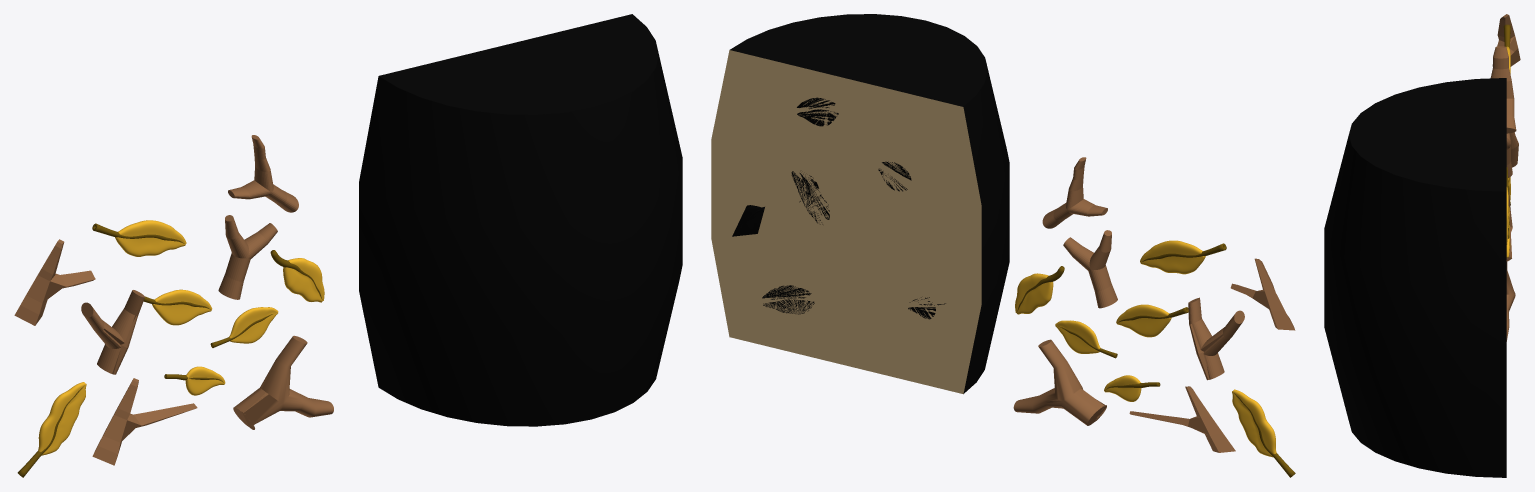
File: daun_tipe1.fbx
3 views of the same model, side by side, from view 1: azimuth 30°, elevation 25°; view 2: azimuth 150°, elevation 25°; view 3: azimuth 270°, elevation 25° (orthographic). The views are drawn at different scales.
Parts seen in each view (by area): view 1: Cylinder.003, Wye Joint.005, Icosphere.027, Tee Joint.002, Icosphere.028, Wye Joint.004, NurbsPath.013, NurbsPath.011, Wye Joint.003, NurbsPath.016, NurbsPath.015, NurbsPath.009 (+1 smaller); view 2: Cylinder.003, Wye Joint.005, Tee Joint.002, Wye Joint.004, NurbsPath.013, NurbsPath.011, Icosphere.027, Wye Joint.003, NurbsPath.015, NurbsPath.016, Icosphere.028, NurbsPath.009 (+1 smaller); view 3: Cylinder.003, Wye Joint.003, Icosphere.028, Wye Joint.005, Tee Joint.002.
Boxes of the visible parts, box(x1,y1,x2,y2) form: Cylinder.003: box(359, 14, 682, 426); Wye Joint.005: box(233, 335, 333, 429); Icosphere.027: box(92, 378, 197, 465); Tee Joint.002: box(81, 290, 144, 374); Icosphere.028: box(14, 239, 95, 325); Wye Joint.004: box(218, 215, 277, 299); NurbsPath.013: box(17, 382, 86, 477); NurbsPath.011: box(92, 220, 186, 256); Wye Joint.003: box(228, 135, 298, 212); NurbsPath.016: box(270, 250, 324, 302); NurbsPath.015: box(143, 289, 212, 325); NurbsPath.009: box(210, 307, 278, 347); Cylinder.003: box(711, 14, 1009, 394); Wye Joint.005: box(1013, 339, 1106, 425); Tee Joint.002: box(1188, 297, 1244, 380); Wye Joint.004: box(1063, 230, 1117, 308); NurbsPath.013: box(1232, 389, 1295, 477); NurbsPath.011: box(1140, 240, 1226, 274); Icosphere.027: box(1129, 386, 1235, 452); Wye Joint.003: box(1042, 157, 1107, 228); NurbsPath.015: box(1116, 304, 1188, 337); NurbsPath.016: box(1015, 266, 1064, 314); Icosphere.028: box(1230, 258, 1295, 330); NurbsPath.009: box(1055, 320, 1117, 358); Cylinder.003: box(1324, 78, 1506, 477); Wye Joint.003: box(1490, 46, 1516, 133); Icosphere.028: box(1492, 14, 1520, 66); Wye Joint.005: box(1506, 260, 1515, 341); Tee Joint.002: box(1509, 132, 1518, 167).
Size of the model in its own units: 194 by 93.28 by 56.45.
